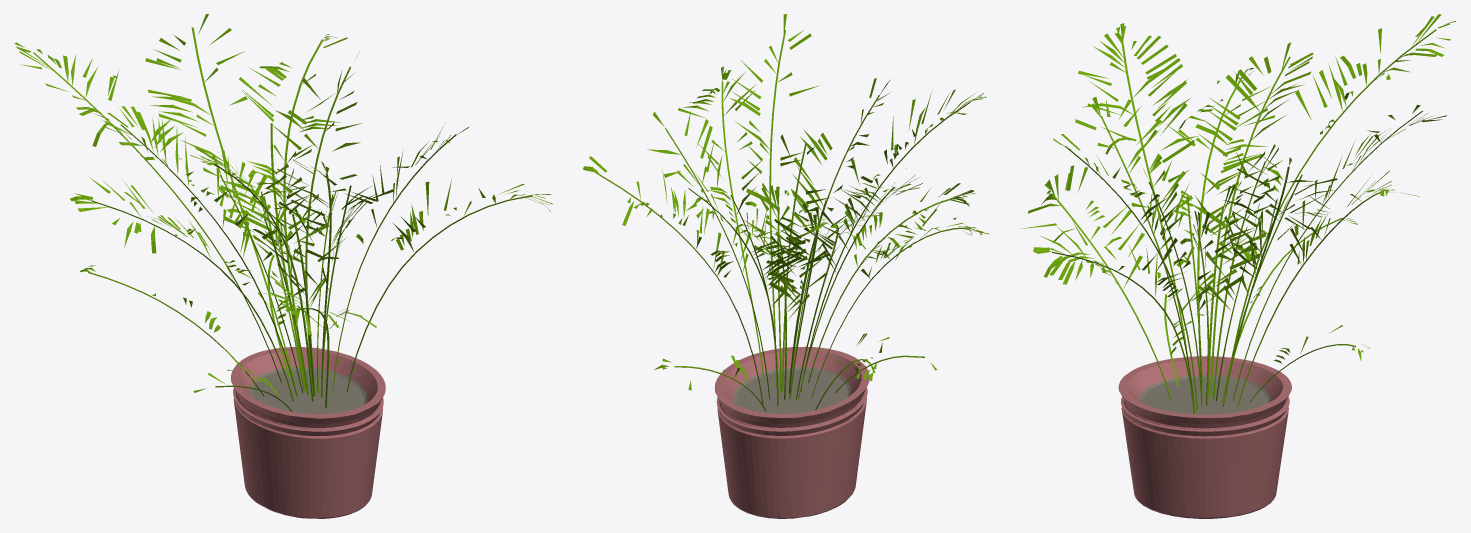
File: sh-bs0-plant.glb
3 views of the same model, side by side, from view 1: azimuth 30°, elevation 25°; view 2: azimuth 150°, elevation 25°; view 3: azimuth 270°, elevation 25° (orthographic).
Visible parts, largest first — view 1: plant_Mesh.001, Circle; view 2: Circle, plant_Mesh.001; view 3: plant_Mesh.001, Circle.
Boxes of the visible parts, x1,y1,x2,y2 form: plant_Mesh.001: [14, 14, 552, 411]; Circle: [231, 347, 385, 518]; Circle: [714, 346, 869, 518]; plant_Mesh.001: [582, 14, 988, 411]; plant_Mesh.001: [1020, 14, 1455, 414]; Circle: [1118, 356, 1291, 518].
Bounding box in the file's own units: 0.9974 × 0.9993 × 0.9958.
